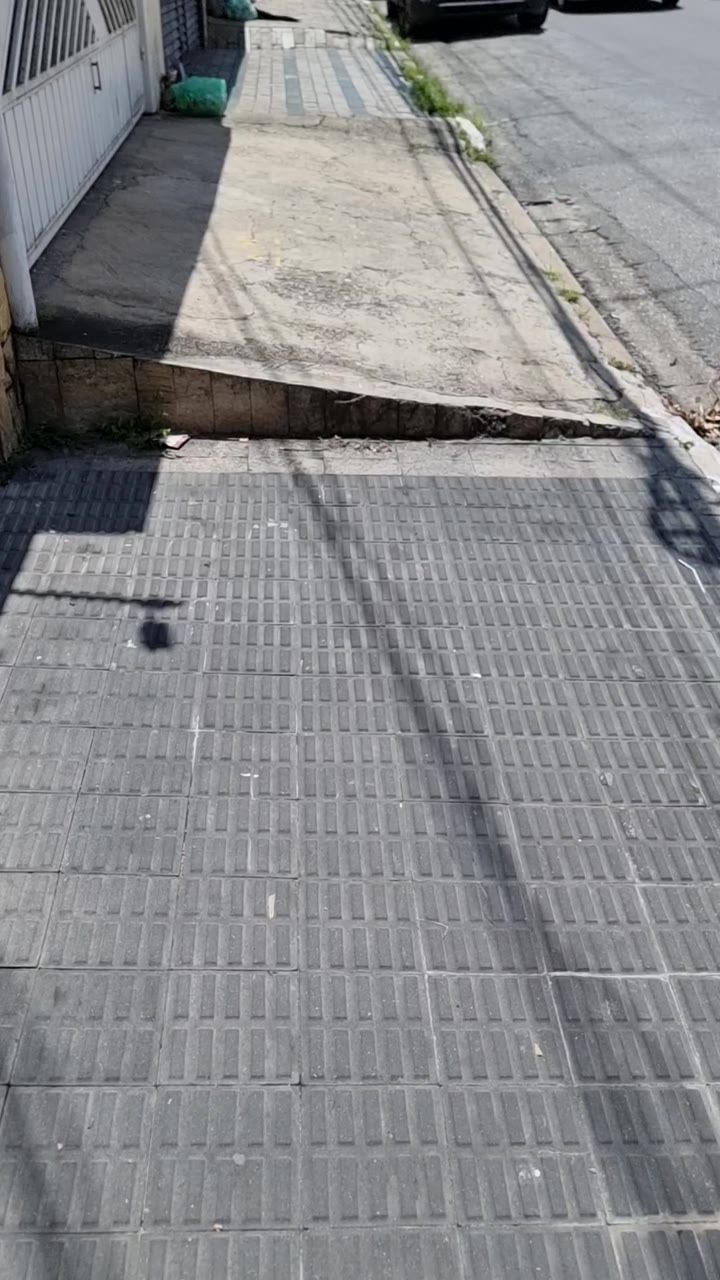desnivel: (36, 307, 662, 422)
obstaculo: (166, 26, 223, 102)
